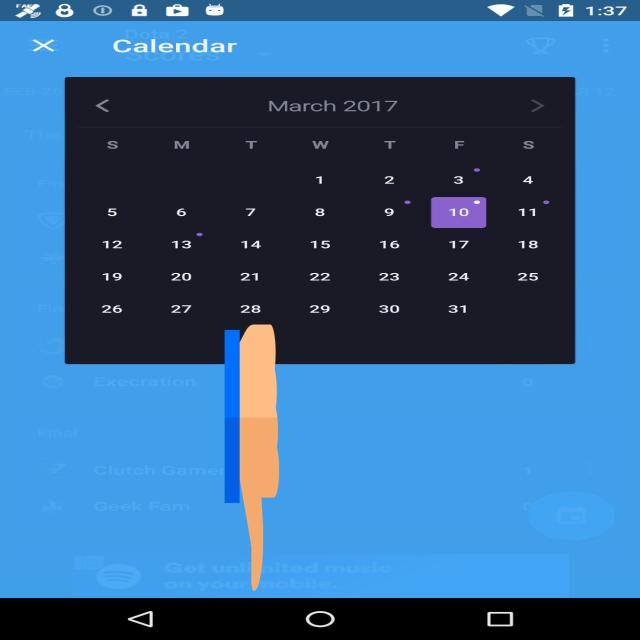obstruction: (225, 318, 279, 598)
